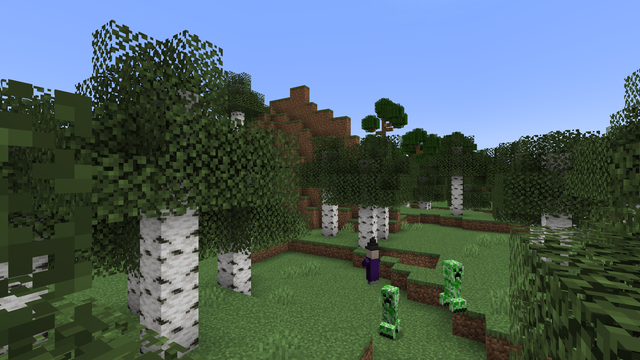creepers: (379, 281, 399, 338), (442, 256, 461, 311)
sorcieres: (365, 245, 379, 286)
